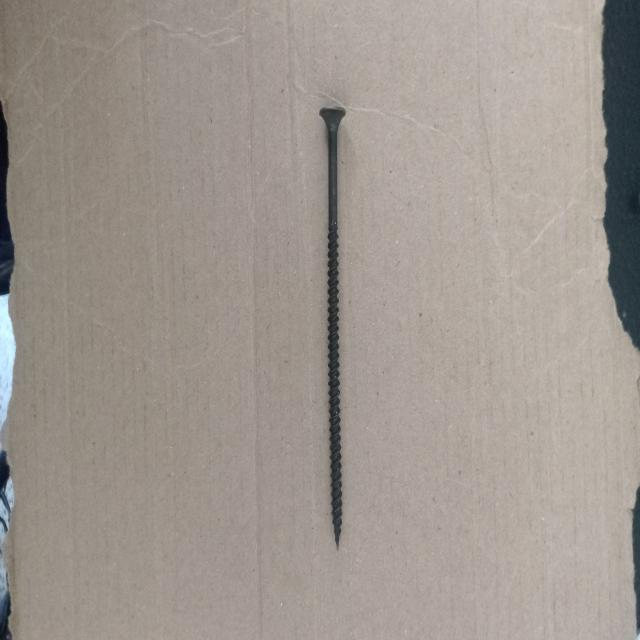screw: (319, 107, 351, 551)
